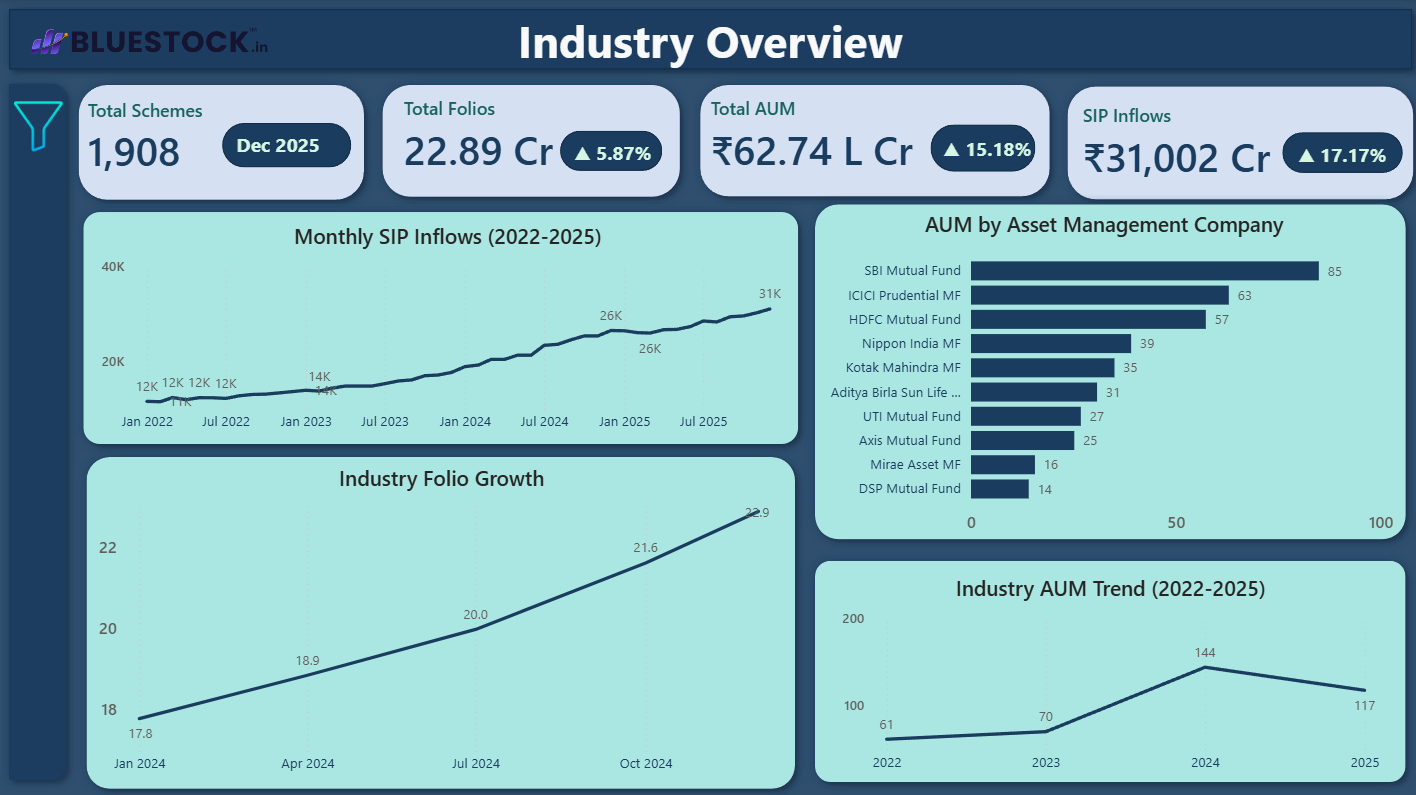

Layout of this report page (visuals, bound fields, positions):
{"tool":"powerbi","page":{"name":"Industry Overview","canvas":[1280,720],"ordinal":0},"visuals":[{"type":"shape","box":[0,67.3,69.5,644.9],"z":0,"group":"g14"},{"type":"group","id":"g1","title":"Group 2","box":[55.8,68.3,281.5,121.3],"z":0,"group":"g9"},{"type":"shape","box":[62.7,68.3,274.6,121.3],"z":0,"group":"g1"},{"type":"shape","box":[336.1,68.3,285.5,118.6],"z":0,"group":"g4"},{"type":"shape","box":[621.8,68.5,332.3,118.2],"z":0,"group":"g3"},{"type":"group","id":"g2","title":"Group 2","box":[950.4,69.1,330.5,119.5],"z":0},{"type":"shape","box":[952,69.1,328.9,119.6],"z":0,"group":"g2"},{"type":"shape","box":[200.5,111.6,116.1,39.9],"z":0,"group":"g8"},{"type":"shape","box":[838.8,113,94.4,42.3],"z":0,"group":"g7"},{"type":"shape","box":[504.4,118.3,91.9,36.1],"z":0,"group":"g5"},{"type":"shape","box":[1154.7,119.2,108.2,36.5],"z":0,"group":"g6"},{"type":"shape","box":[724.7,176,549.5,319.4],"z":0,"group":"g11"},{"type":"shape","box":[66.4,182.2,661.1,226.6],"z":0,"group":"g12"},{"type":"shape","box":[69.7,403,655.5,316.6],"z":0,"group":"g13"},{"type":"shape","box":[724.7,496.3,549.2,217.1],"z":0,"group":"g10"},{"type":"group","id":"g3","title":"Group 2","box":[616.4,68.3,337.5,118.5],"z":1000},{"type":"cardVisual","fields":{"Data":["03_aum_by_fund_house_clean.Latest Total AUM Display"]},"box":[616.4,68.3,249.1,109.2],"z":1000,"group":"g3"},{"type":"cardVisual","fields":{"Data":["06_industry_folio_count_clean.Latest Total Folios Display"]},"box":[339.8,70,193.7,107],"z":1000,"group":"g4"},{"type":"cardVisual","fields":{"Data":["07_scheme_performance_clean.Total Schemes Display"]},"box":[55.8,72.8,186.6,103.7],"z":1000,"group":"g1"},{"type":"cardVisual","fields":{"Data":["04_monthly_sip_inflows_clean.SIP Inflows Display"]},"box":[950.4,77.6,227.7,102.7],"z":1000,"group":"g2"},{"type":"image","box":[6.5,93.1,56.5,45.1],"z":1000,"group":"g14"},{"type":"cardVisual","fields":{"Data":["07_scheme_performance_clean.Latest Report Date"]},"box":[196.8,98.7,147.9,61.5],"z":1000,"group":"g9"},{"type":"cardVisual","fields":{"Data":["06_industry_folio_count_clean.Latest Folio Growth Display"]},"box":[500.2,104.5,123.3,65.5],"z":1000,"group":"g5"},{"type":"cardVisual","fields":{"Data":["04_monthly_sip_inflows_clean.Latest SIP YoY Display"]},"box":[1151.4,104.8,124.3,65.3],"z":1000,"group":"g6"},{"type":"cardVisual","fields":{"Data":["03_aum_by_fund_house_clean.Latest AUM Growth Display"]},"box":[832.7,105.9,115.7,53],"z":1000,"group":"g7"},{"type":"clusteredBarChart","title":"AUM by Asset Management Company","fields":{"Category":["03_aum_by_fund_house_clean.fund_house"],"Y":["Sum(03_aum_by_fund_house_clean.aum_lakh_crore)"]},"box":[733.3,189.5,521.6,302.6],"z":1000,"group":"g11"},{"type":"lineChart","title":"Monthly SIP Inflows (2022-2025)","fields":{"Y":["Sum(04_monthly_sip_inflows_clean.sip_inflow_crore)"],"Category":["04_monthly_sip_inflows_clean.month.Variation.Date Hierarchy.Quarter"]},"box":[91.8,200.5,623.6,198.5],"z":1000,"group":"g12"},{"type":"lineChart","title":"Industry Folio Growth","fields":{"Y":["Sum(06_industry_folio_count_clean.total_folios_crore)"],"Category":["06_industry_folio_count_clean.month.Variation.Date Hierarchy.Year","06_industry_folio_count_clean.month.Variation.Date Hierarchy.Month"]},"box":[88.9,417.9,618,288.4],"z":1000,"group":"g13"},{"type":"lineChart","title":"Industry AUM Trend (2022-2025)","fields":{"Y":["03_aum_by_fund_house_clean.Industry Total AUM"],"Category":["03_aum_by_fund_house_clean.date.Variation.Date Hierarchy.Year"]},"box":[758.7,517,483.1,188.2],"z":1000,"group":"g10"},{"type":"group","id":"g4","title":"Group 2","box":[336.1,68.3,287.3,118.5],"z":2000},{"type":"group","id":"g5","title":"Group 1","box":[500.2,104.5,123.3,65.5],"z":2000,"group":"g4"},{"type":"group","id":"g6","title":"Group 1","box":[1151.4,104.8,124.4,64.8],"z":2000,"group":"g2"},{"type":"group","id":"g7","title":"Group 1","box":[832.7,105.9,115.6,53.7],"z":2000,"group":"g3"},{"type":"group","id":"g8","title":"Group 1","box":[200.5,111.6,116.2,38.7],"z":2000,"group":"g1"},{"type":"group","id":"g9","title":"Group 3","box":[55.8,68.3,288.7,121.3],"z":3000},{"type":"group","id":"g10","title":"Group 4","box":[724.7,496.3,550.6,217.2],"z":4000},{"type":"group","id":"g11","title":"Group 4","box":[724.7,176,548.7,320.2],"z":5000},{"type":"group","id":"g12","title":"Group 4","box":[66.4,182.2,661.1,226.6],"z":6000},{"type":"group","id":"g13","title":"Group 4","box":[69.7,403,655.5,316.6],"z":7000},{"type":"shape","title":"Bluestock Mutual Fund Analytics Dashboard","box":[0,0,1280.5,72.4],"z":8000},{"type":"group","id":"g14","title":"Filter Panel","box":[0,67.3,69.5,644.9],"z":9000},{"type":"image","box":[13.1,23.2,245.4,27.6],"z":11000}]}

Visuals, with their boxes in screenshot pixels (x1, y1, x2, y2), scaled from the page's 1280x720 canvas onto the 1416x795 screenshot:
shape: [0,74,77,786]
"Group 2" group: [62,75,373,209]
shape: [69,75,373,209]
shape: [372,75,688,206]
shape: [688,76,1055,206]
"Group 2" group: [1051,76,1415,208]
shape: [1053,76,1415,208]
shape: [222,123,350,167]
shape: [928,125,1032,171]
shape: [558,131,660,170]
shape: [1277,132,1397,172]
shape: [802,194,1410,547]
shape: [73,201,805,451]
shape: [77,445,802,794]
shape: [802,548,1409,788]
"Group 2" group: [682,75,1055,206]
cardVisual - 03_aum_by_fund_house_clean.Latest Total AUM Display: [682,75,957,196]
cardVisual - 06_industry_folio_count_clean.Latest Total Folios Display: [376,77,590,195]
cardVisual - 07_scheme_performance_clean.Total Schemes Display: [62,80,268,195]
cardVisual - 04_monthly_sip_inflows_clean.SIP Inflows Display: [1051,86,1303,199]
image: [7,103,70,153]
cardVisual - 07_scheme_performance_clean.Latest Report Date: [218,109,381,177]
cardVisual - 06_industry_folio_count_clean.Latest Folio Growth Display: [553,115,690,188]
cardVisual - 04_monthly_sip_inflows_clean.Latest SIP YoY Display: [1274,116,1411,188]
cardVisual - 03_aum_by_fund_house_clean.Latest AUM Growth Display: [921,117,1049,175]
"AUM by Asset Management Company" clusteredBarChart: [811,209,1388,543]
"Monthly SIP Inflows (2022-2025)" lineChart: [102,221,791,441]
"Industry Folio Growth" lineChart: [98,461,782,780]
"Industry AUM Trend (2022-2025)" lineChart: [839,571,1374,779]
"Group 2" group: [372,75,690,206]
"Group 1" group: [553,115,690,188]
"Group 1" group: [1274,116,1411,187]
"Group 1" group: [921,117,1049,176]
"Group 1" group: [222,123,350,166]
"Group 3" group: [62,75,381,209]
"Group 4" group: [802,548,1411,788]
"Group 4" group: [802,194,1409,548]
"Group 4" group: [73,201,805,451]
"Group 4" group: [77,445,802,794]
"Bluestock Mutual Fund Analytics Dashboard" shape: [0,0,1415,80]
"Filter Panel" group: [0,74,77,786]
image: [14,26,286,56]
